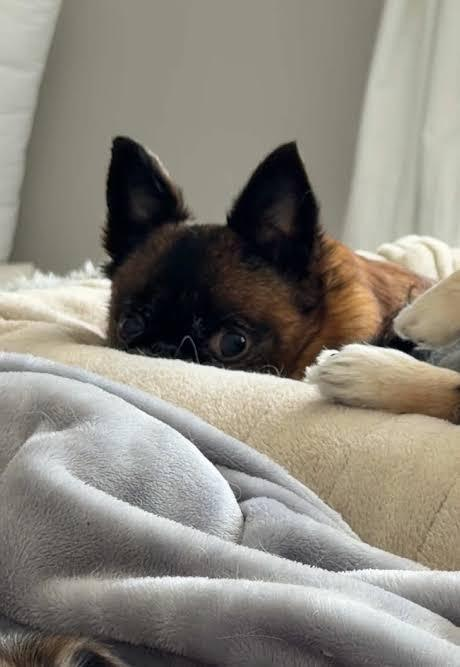adult_dog: (102, 135, 460, 424)
